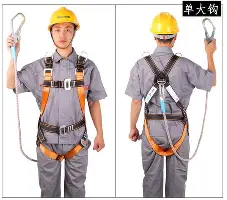safety belt: (32, 49, 101, 160), (134, 53, 190, 159)
